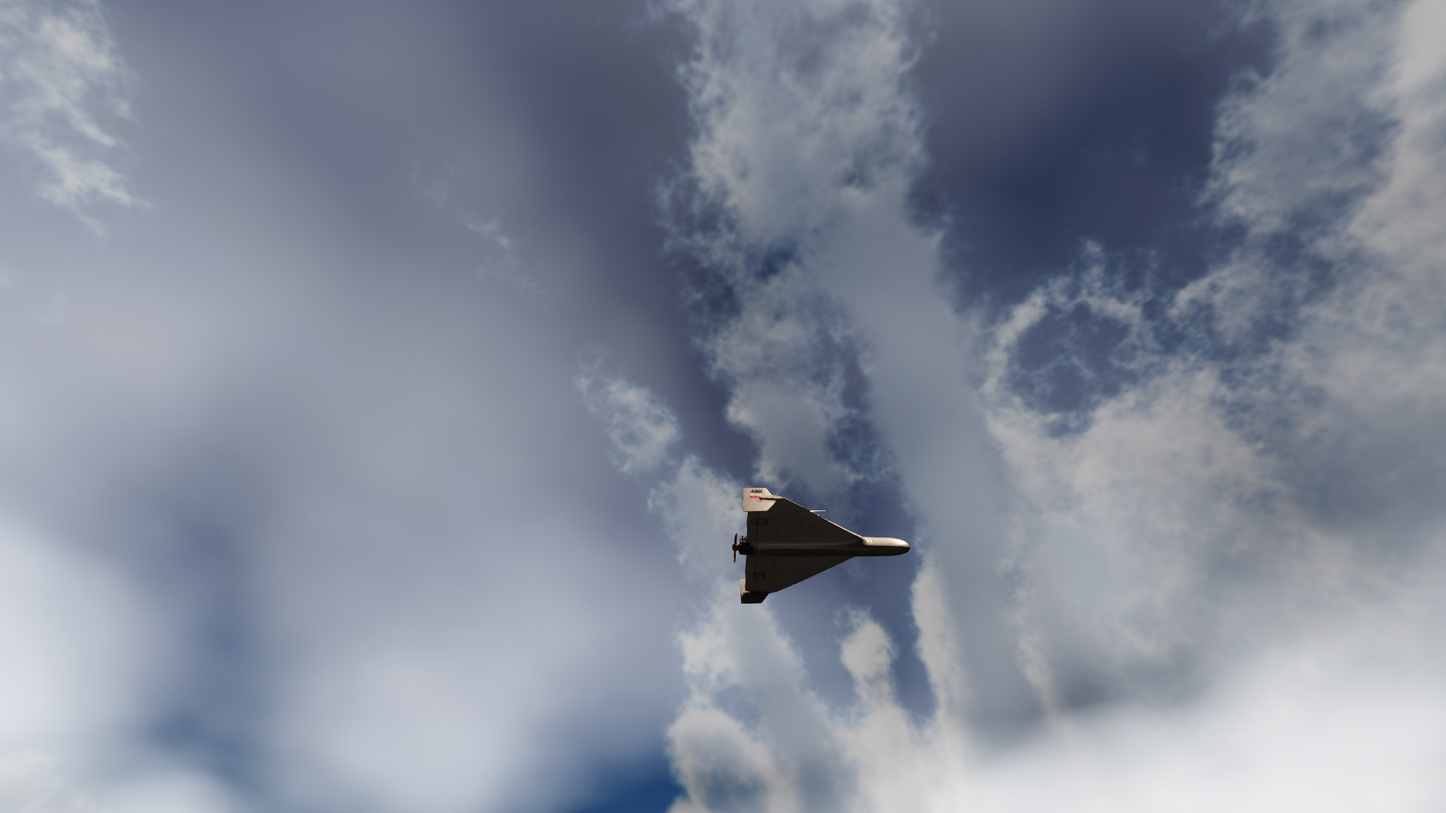shahed: (732, 488, 910, 604)
